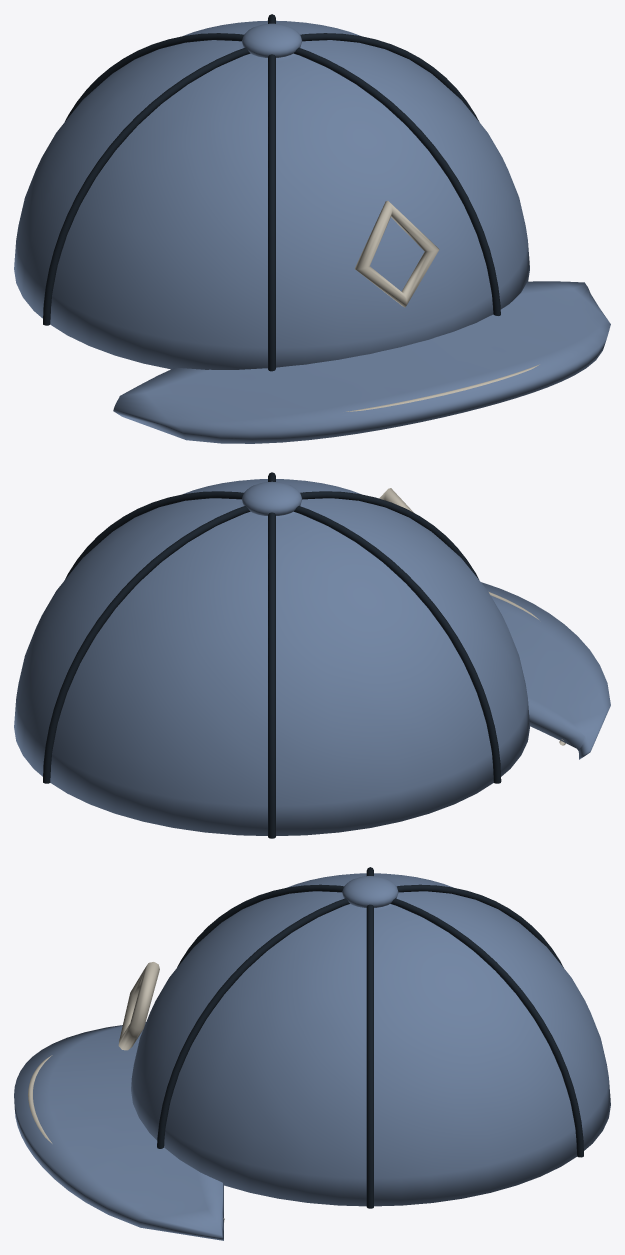
File: room-baseball-cap.glb
3 views of the same model, one above another, from view 1: azimuth 30°, elevation 25°; view 2: azimuth 150°, elevation 25°; view 3: azimuth 270°, elevation 25° (orthographic). The views are drawn at different scales.
Visible parts, largest first — view 1: room-baseball-cap-fabric, room-baseball-cap-coal, room-baseball-cap-linen; view 2: room-baseball-cap-fabric, room-baseball-cap-coal; view 3: room-baseball-cap-fabric, room-baseball-cap-coal, room-baseball-cap-linen.
Boxes of the visible parts, bbox=[...] form: room-baseball-cap-fabric: bbox=[14, 20, 610, 443]; room-baseball-cap-coal: bbox=[43, 14, 500, 371]; room-baseball-cap-linen: bbox=[346, 201, 539, 411]; room-baseball-cap-fabric: bbox=[14, 479, 610, 835]; room-baseball-cap-coal: bbox=[43, 472, 501, 838]; room-baseball-cap-fabric: bbox=[14, 873, 610, 1240]; room-baseball-cap-coal: bbox=[157, 867, 583, 1208]; room-baseball-cap-linen: bbox=[28, 962, 224, 1222].
Size of the model in its own units: 0.4911 by 0.27 by 0.5707.
